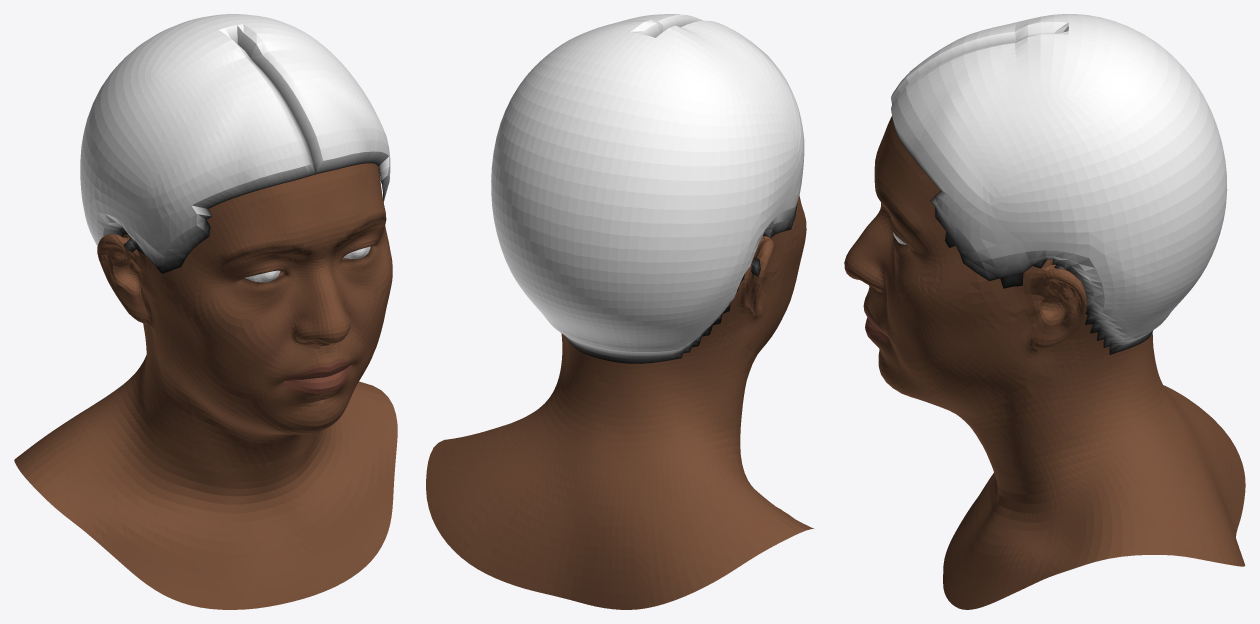
File: priya.glb
3 views of the same model, side by side, from view 1: azimuth 30°, elevation 25°; view 2: azimuth 150°, elevation 25°; view 3: azimuth 270°, elevation 25° (orthographic). The views are drawn at different scales.
Parts seen in each view (by area): view 1: gnm_head; view 2: gnm_head; view 3: gnm_head.
Boxes of the visible parts, x1=… form: gnm_head: x1=14, y1=14, x2=397, y2=609; gnm_head: x1=426, y1=14, x2=813, y2=609; gnm_head: x1=844, y1=14, x2=1245, y2=609.
Bounding box in the file's own units: 0.2549 × 0.3637 × 0.2406.
